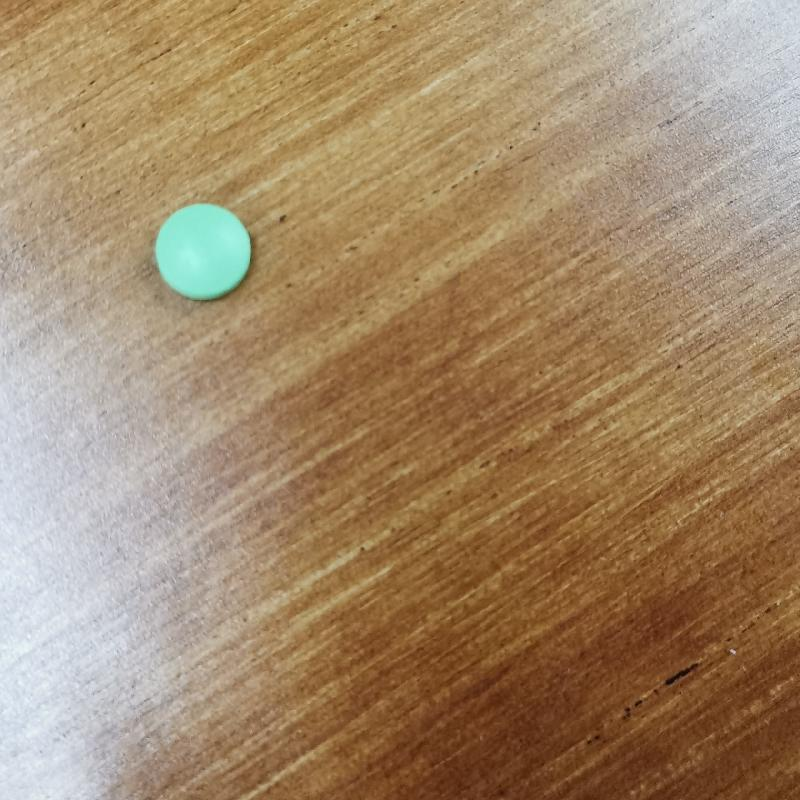pills: (142, 199, 275, 312)
